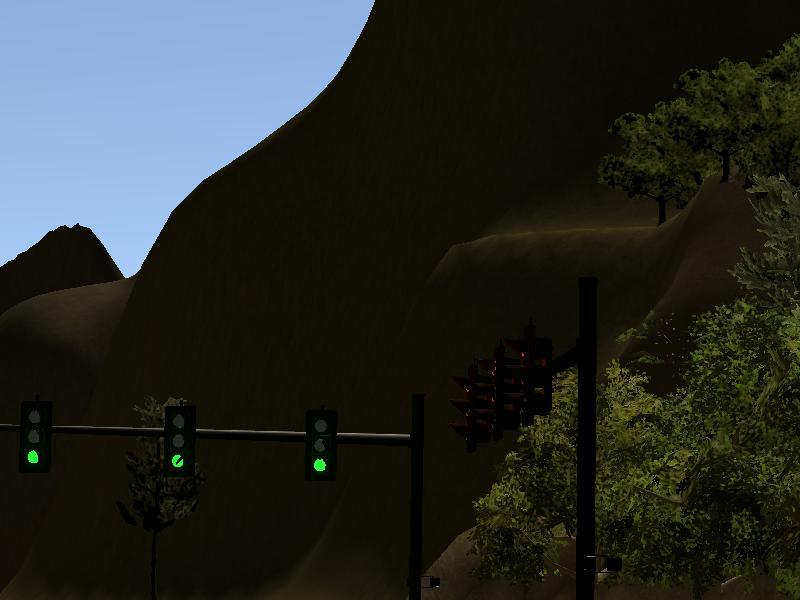Green: (303, 408, 337, 485), (20, 401, 53, 478), (164, 405, 192, 477)
